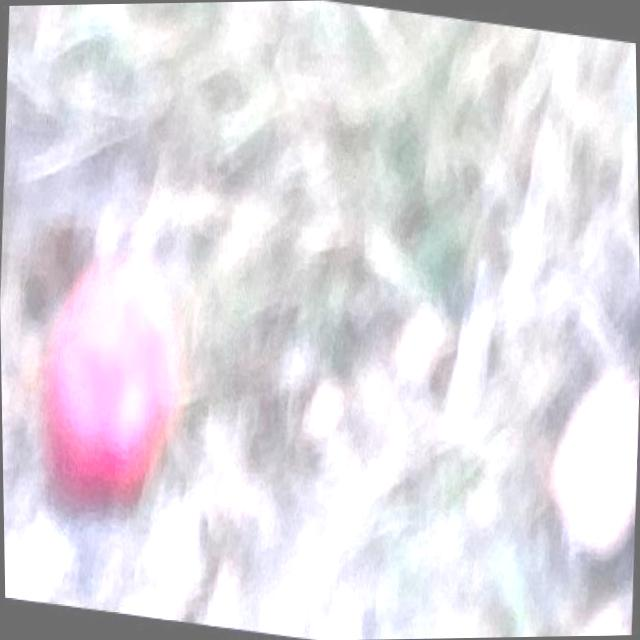Apple: (37, 262, 179, 524)
